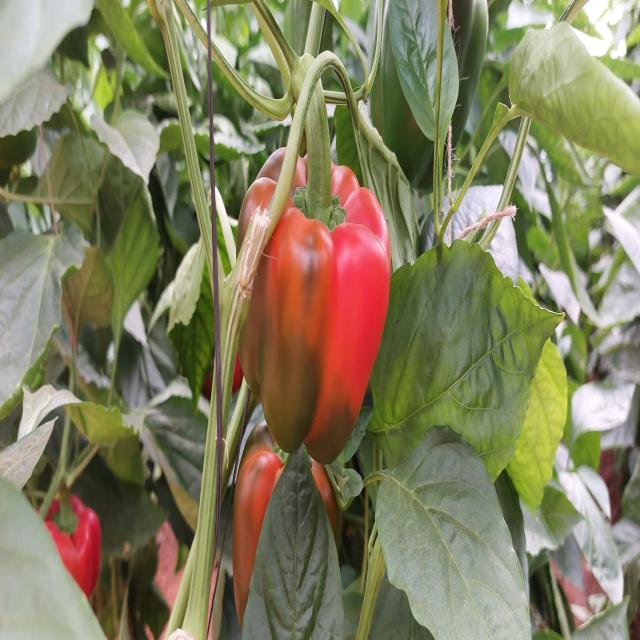Red-Ready-to-Harvest: (238, 187, 392, 473), (49, 484, 106, 604)
